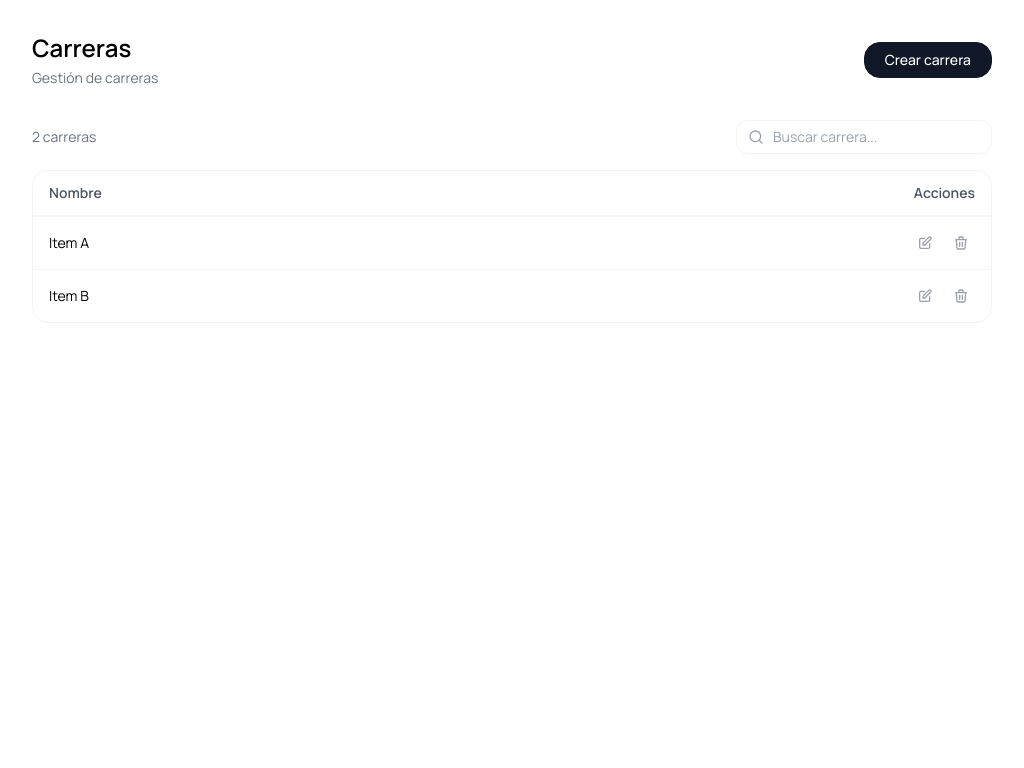
Scenario: CrudAdminPage › abre el modal de eliminar al hacer click en eliminar
Expected: the text "Item A" is shown, left=33, top=216, right=895, bottom=270
Step 1. Click the button titled "Eliminar" in the row of "Item A" → click(961, 243), box left=947, top=229, right=975, bottom=257
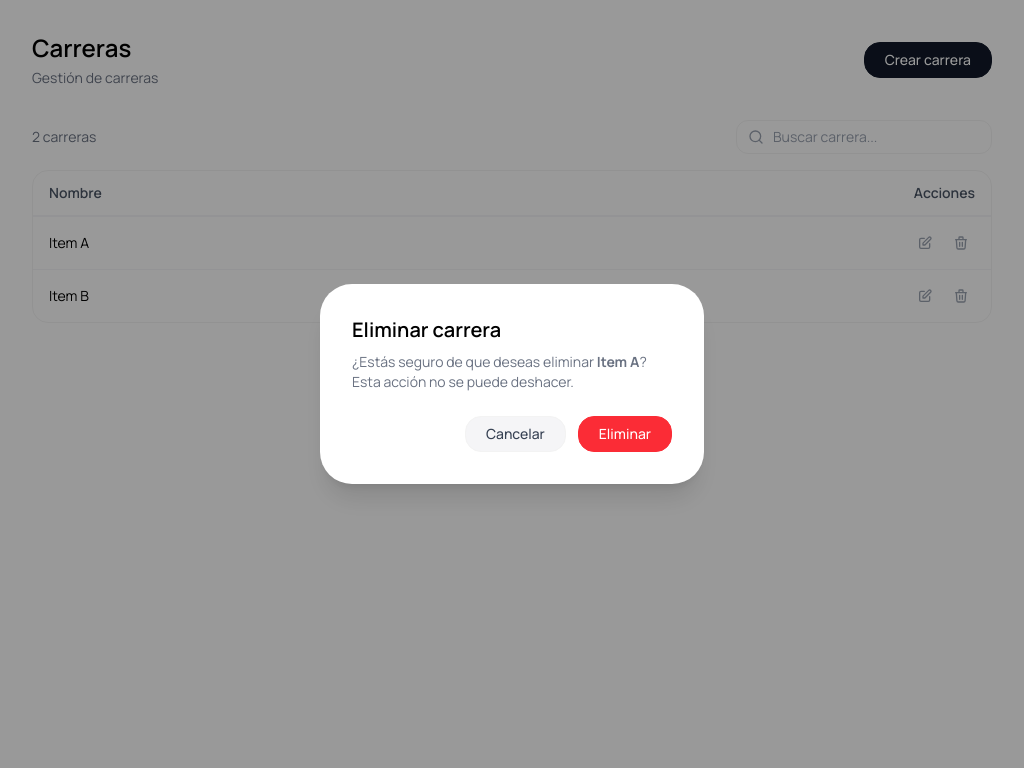
Now the heading "Eliminar carrera" is shown, box left=352, top=316, right=501, bottom=343
Now the text "¿Estás seguro" is shown, box left=352, top=352, right=597, bottom=371
